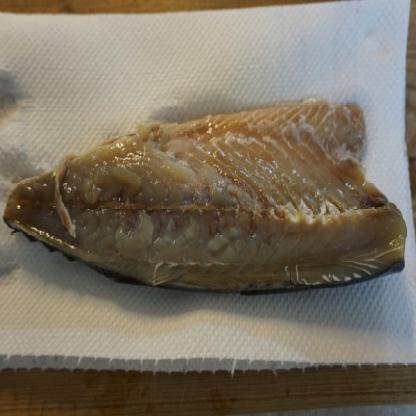Peixe: (0, 73, 410, 318)
